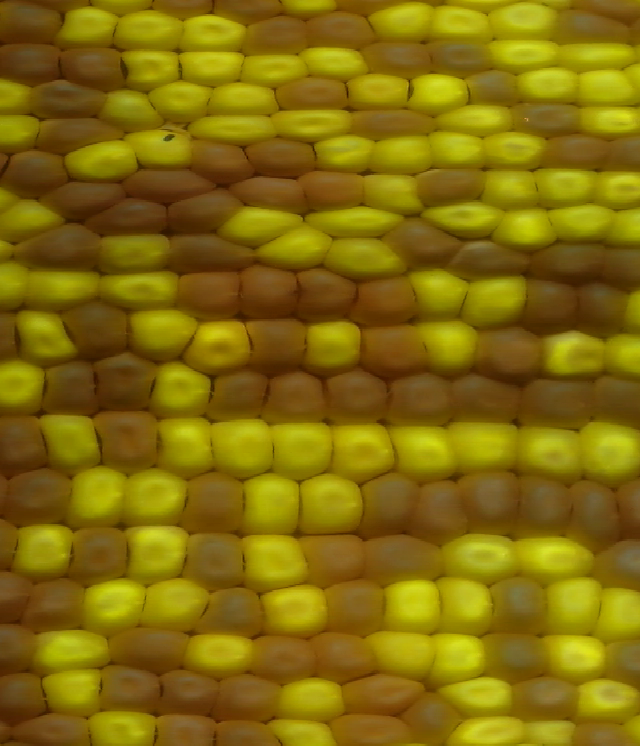fluorescent: (294, 472, 370, 538), (236, 530, 315, 591), (510, 424, 585, 486), (210, 414, 275, 483), (511, 532, 595, 583), (327, 418, 398, 478), (391, 420, 458, 483), (120, 466, 186, 529), (153, 413, 215, 480), (257, 582, 331, 638), (148, 360, 217, 420), (21, 260, 101, 311), (448, 419, 522, 474), (438, 533, 521, 582), (78, 575, 147, 633), (141, 576, 211, 633), (125, 522, 188, 585), (16, 306, 81, 367), (43, 413, 104, 478), (579, 422, 640, 487), (325, 232, 407, 280), (188, 318, 257, 375), (11, 519, 74, 581), (62, 465, 127, 525), (363, 630, 436, 683), (128, 308, 200, 361), (272, 416, 333, 478), (385, 577, 447, 638), (409, 266, 474, 324), (465, 274, 530, 332), (302, 316, 364, 376), (217, 202, 301, 246), (417, 317, 478, 377), (437, 676, 522, 719), (95, 269, 179, 312), (272, 674, 346, 722), (243, 472, 296, 539), (539, 329, 611, 378), (33, 627, 111, 672), (304, 204, 409, 237), (263, 225, 338, 271), (543, 580, 602, 638), (439, 577, 498, 635), (96, 229, 175, 272), (539, 634, 611, 681), (183, 628, 252, 677), (127, 120, 194, 169), (575, 672, 640, 722), (432, 630, 489, 685), (438, 103, 525, 139), (360, 171, 425, 218), (274, 107, 358, 143), (494, 206, 557, 254), (39, 669, 99, 719), (100, 87, 165, 133), (426, 202, 506, 239), (64, 143, 141, 181), (112, 9, 186, 48), (404, 71, 468, 116), (190, 111, 279, 143), (0, 359, 47, 418), (117, 48, 183, 90), (536, 164, 599, 208), (56, 7, 121, 49), (367, 2, 437, 41), (181, 12, 247, 53), (210, 77, 283, 114), (367, 134, 438, 172), (484, 165, 541, 212), (481, 129, 547, 169), (554, 40, 636, 72), (498, 1, 563, 41), (151, 78, 217, 117), (574, 67, 638, 107), (514, 66, 578, 106), (180, 48, 247, 86), (595, 585, 640, 641), (547, 204, 615, 241), (348, 71, 417, 107), (0, 201, 62, 241), (437, 1, 498, 41), (490, 35, 558, 70), (88, 712, 158, 746), (577, 101, 640, 138), (447, 716, 523, 746), (312, 133, 374, 169), (598, 333, 640, 386), (428, 128, 485, 167), (242, 54, 310, 86), (0, 111, 44, 155), (302, 48, 368, 77), (594, 170, 640, 208), (521, 717, 579, 746), (606, 204, 640, 248), (0, 75, 31, 112)
nonfluorescent: (7, 222, 105, 275), (318, 362, 394, 425), (356, 529, 446, 582), (381, 217, 462, 275), (185, 469, 252, 539), (306, 624, 381, 686), (470, 322, 542, 385), (356, 320, 432, 378), (167, 227, 258, 275), (518, 375, 599, 428), (528, 235, 610, 287), (60, 301, 131, 361), (516, 470, 574, 543), (357, 475, 421, 541), (67, 522, 133, 586), (184, 532, 251, 595), (444, 374, 522, 428), (388, 367, 458, 427), (93, 411, 163, 471), (295, 533, 368, 590), (562, 478, 622, 546), (200, 582, 269, 641), (37, 357, 102, 419), (291, 262, 358, 322), (242, 316, 309, 376), (451, 235, 535, 282), (236, 262, 304, 320), (173, 267, 242, 324), (94, 354, 159, 414), (109, 623, 190, 671), (22, 576, 89, 634), (577, 274, 635, 340), (202, 367, 270, 423), (410, 476, 468, 541), (323, 577, 388, 635), (214, 669, 283, 723), (0, 472, 77, 520), (481, 629, 552, 681), (490, 576, 547, 639), (262, 369, 326, 425), (514, 670, 579, 725), (127, 161, 214, 202), (0, 146, 68, 198), (399, 690, 464, 744), (247, 132, 320, 180), (191, 134, 257, 187), (356, 272, 422, 325), (27, 78, 112, 119), (330, 706, 417, 746), (31, 113, 125, 150), (460, 471, 515, 534), (339, 674, 425, 714), (95, 664, 168, 711), (522, 278, 579, 338), (0, 409, 51, 476), (165, 190, 246, 232), (42, 176, 127, 216), (552, 7, 631, 50), (272, 72, 354, 113), (153, 666, 222, 714), (89, 197, 169, 238), (231, 172, 309, 214), (149, 702, 222, 746), (60, 44, 128, 91), (362, 35, 430, 80), (0, 38, 65, 85), (298, 167, 365, 212), (257, 633, 316, 683), (306, 9, 377, 50), (349, 107, 437, 140), (10, 712, 95, 746), (511, 101, 583, 140), (244, 13, 309, 56), (417, 167, 485, 208), (423, 35, 491, 75), (588, 372, 640, 424), (539, 133, 609, 171), (598, 535, 640, 598), (0, 2, 64, 43), (0, 670, 51, 720), (209, 709, 274, 746), (467, 69, 523, 109), (0, 620, 38, 676), (601, 238, 640, 291), (600, 635, 640, 686), (607, 132, 640, 172)
